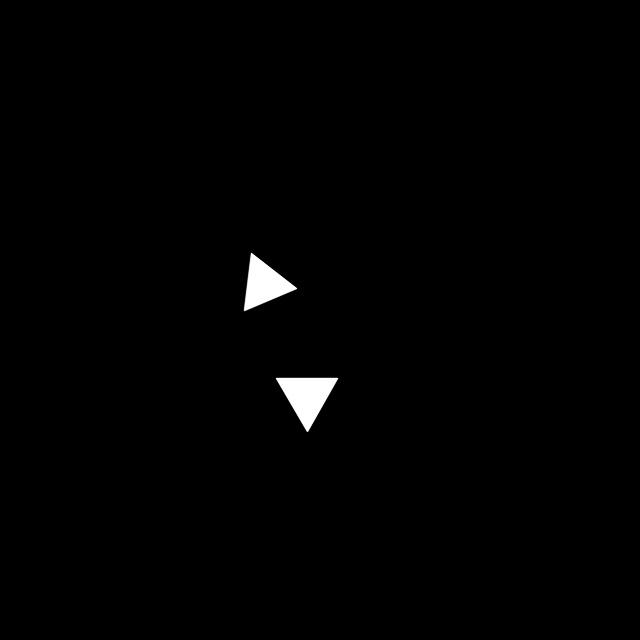Triangle: (226, 244, 306, 317), (268, 370, 346, 436)
